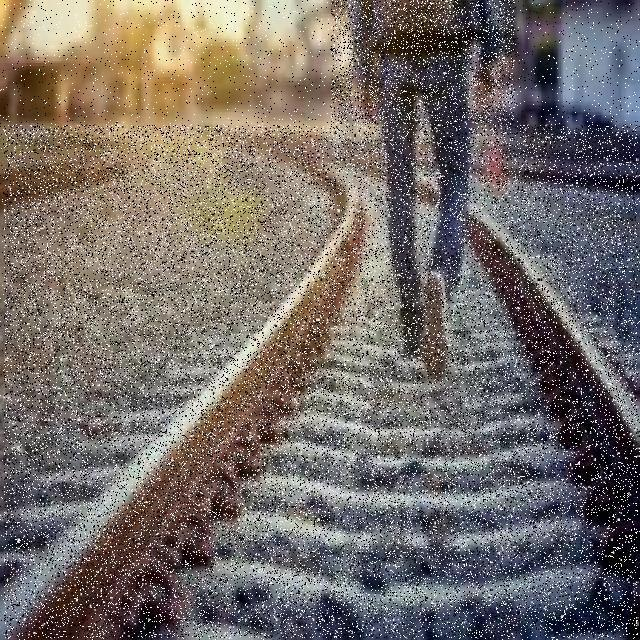danger: (331, 0, 514, 386)
rail: (4, 126, 638, 638)
